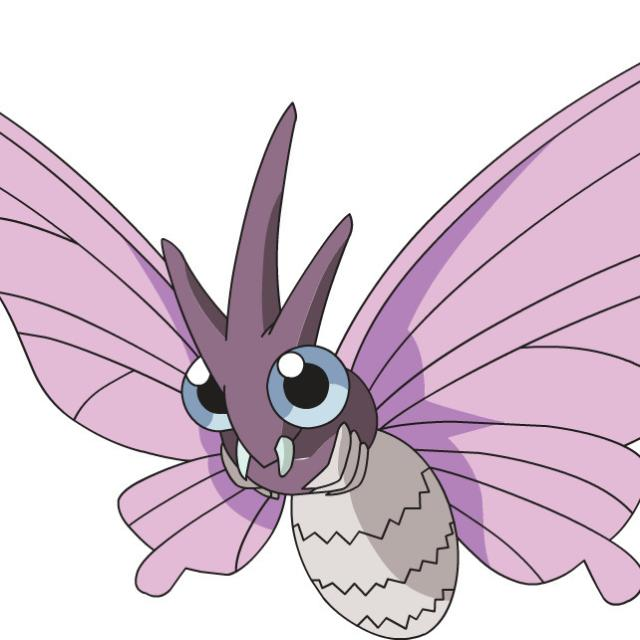Venomoth: (129, 108, 583, 640)
